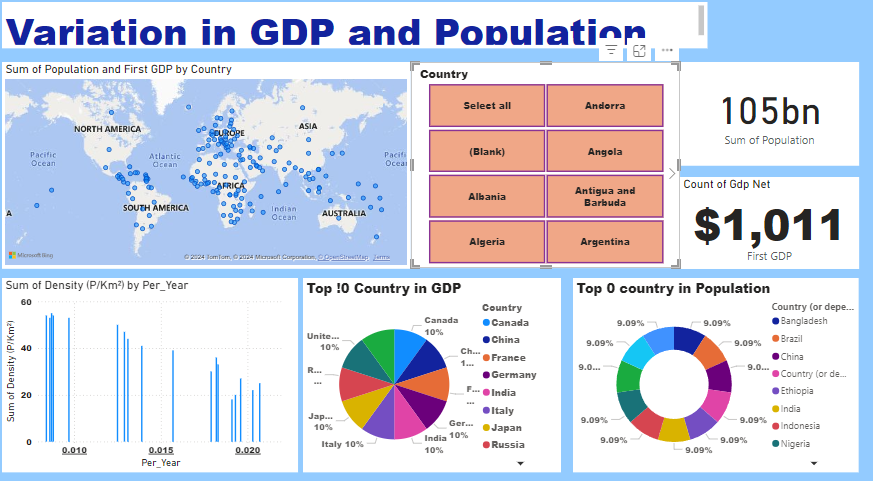

Layout of this report page (visuals, bound fields, positions):
{"tool":"powerbi","page":{"name":"Page 1","canvas":[1280,720],"ordinal":0},"visuals":[{"type":"map","fields":{"Category":["Sheet1.Country"]},"box":[13.4,99.1,591.3,299],"z":0},{"type":"slicer","fields":{"Values":["Sheet1.Country"]},"box":[604.7,99.1,388,299],"z":1000},{"type":"lineClusteredColumnComboChart","fields":{"Category":["World Population Count History.Per_Year"],"Y":["Sum(World Population Count History.Density (P/Km²))"]},"box":[0,433.4,428.3,280.5],"z":2000},{"type":"card","fields":{"Values":["Sum(World Population Count History.Population)"]},"box":[992.8,99.1,258.7,149.5],"z":3000},{"type":"card","title":"Count of Gdp Net","fields":{"Values":["Min(Sheet1.GDP)"]},"box":[1004.5,288.9,258.7,94.1],"z":4000},{"type":"pieChart","title":"Top !0 Country in GDP","fields":{"Category":["Gdp Top 10.Country"],"Y":["CountNonNull(Gdp Top 10.Growth_rate)"]},"box":[404.8,433.4,372.9,238.5],"z":5000},{"type":"donutChart","title":"Top 0 country in Population","fields":{"Category":["Top 10 Country.Country (or dependency)"],"Y":["CountNonNull(Top 10 Country.Population_2023)"]},"box":[799.6,433.4,413.2,260.4],"z":5001},{"type":"textbox","box":[211.7,0,954.1,80.6],"z":5002}]}

Visuals, with their boxes in screenshot pixels (x1, y1, x2, y2), scaled from the page's 1280x720 canvas onto the 873x481 screenshot:
map - Sheet1.Country: <bbox>9, 66, 412, 266</bbox>
slicer - Sheet1.Country: <bbox>412, 66, 677, 266</bbox>
lineClusteredColumnComboChart - World Population Count History.Per_Year x Sum(World Population Count History.Density (P/Km²)): <bbox>0, 290, 292, 477</bbox>
card - Sum(World Population Count History.Population): <bbox>677, 66, 854, 166</bbox>
"Count of Gdp Net" card: <bbox>685, 193, 862, 256</bbox>
"Top !0 Country in GDP" pieChart: <bbox>276, 290, 530, 449</bbox>
"Top 0 country in Population" donutChart: <bbox>545, 290, 827, 463</bbox>
textbox: <bbox>144, 0, 795, 54</bbox>
